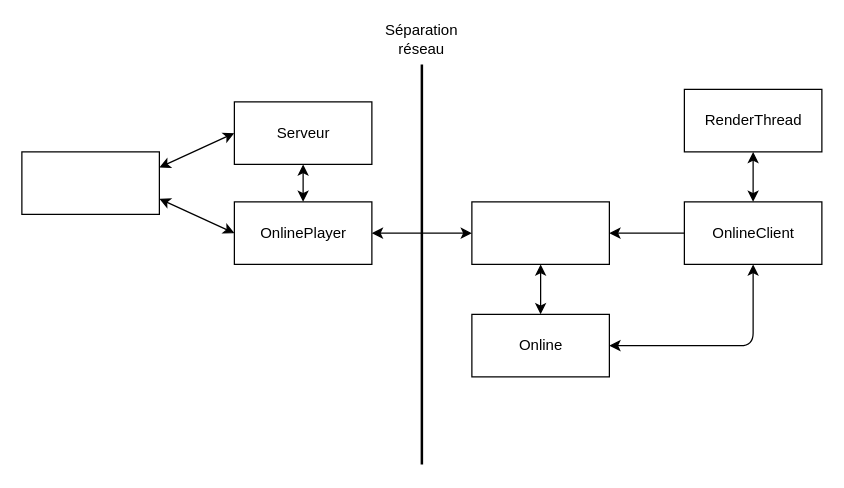
Image size: 844x488. Some labels were removed from this diagram. The centre of each missing label's shape, as x and y in pixels:
NetworkManager: the point at 540,232
OnlineGame: the point at 90,182
